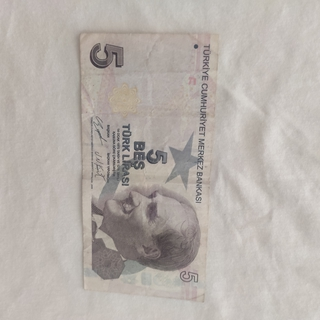5TLFront: (78, 31, 219, 303)
